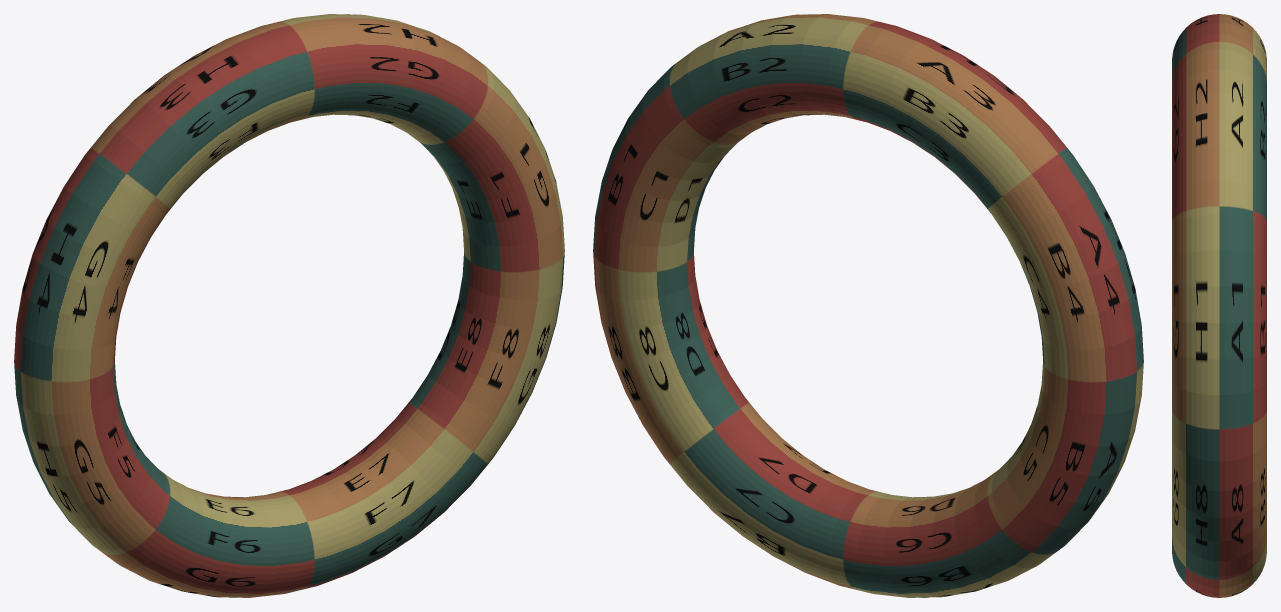
File: texture_torus_R19_r9.glb
3 views of the same model, side by side, from view 1: azimuth 30°, elevation 25°; view 2: azimuth 150°, elevation 25°; view 3: azimuth 270°, elevation 25° (orthographic). The views are drawn at different scales.
Parts seen in each view (by area): view 1: world; view 2: world; view 3: world.
Boxes of the visible parts, box(x1,y1,x2,y2) form: world: box(14, 14, 564, 597); world: box(593, 14, 1143, 597); world: box(1172, 14, 1266, 597).
Size of the model in its own units: 27.07 by 27.01 by 4.39.
Materials: 1 (1 with a texture image).
